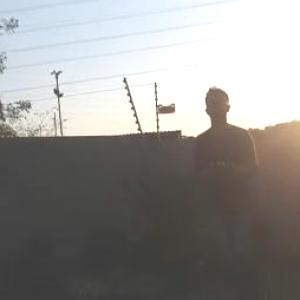follow: (190, 73, 268, 299)
